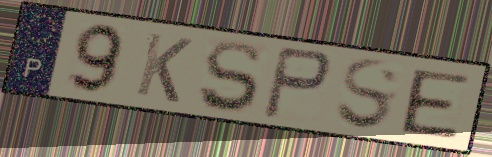9: (64, 22, 127, 96)
E: (399, 67, 474, 142)
K: (131, 29, 196, 106)
P: (259, 43, 334, 123)
S: (333, 57, 404, 134), (196, 38, 264, 116)
